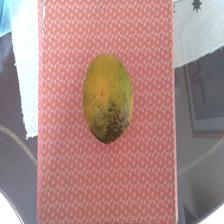Orange Rotten: (77, 47, 136, 151)
